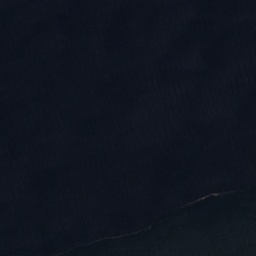Marine Debris: (182, 191, 232, 208)
